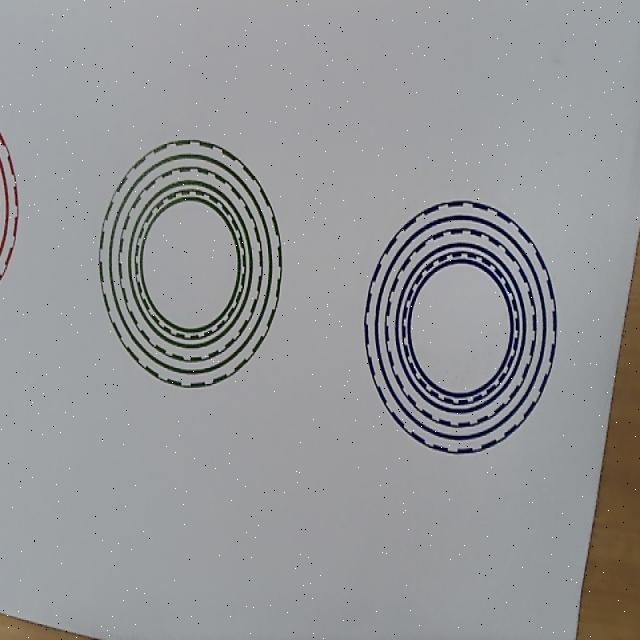b: (364, 199, 556, 455)
g: (99, 139, 281, 388)
